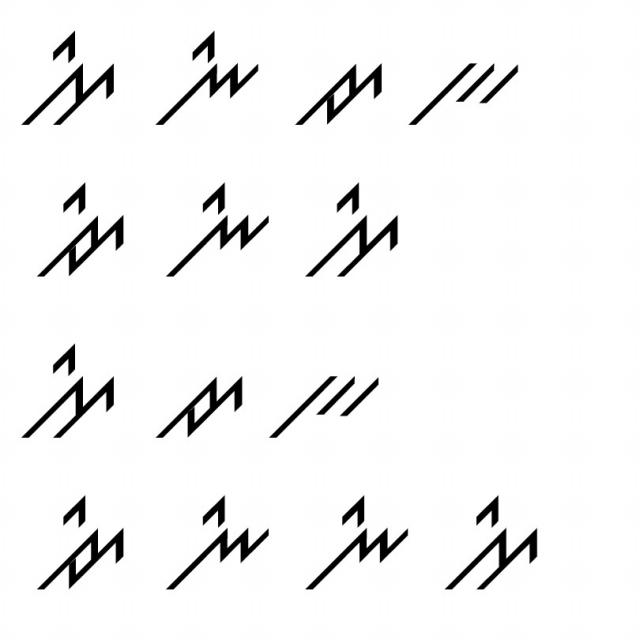ja: (151, 358, 246, 450), (296, 51, 387, 140)
ji: (24, 162, 130, 285), (25, 486, 130, 598)
nyi: (156, 492, 274, 600), (301, 491, 415, 599), (151, 29, 265, 133), (165, 174, 278, 278)
si: (292, 179, 410, 285), (13, 340, 121, 449), (444, 492, 549, 602), (22, 29, 122, 132)
